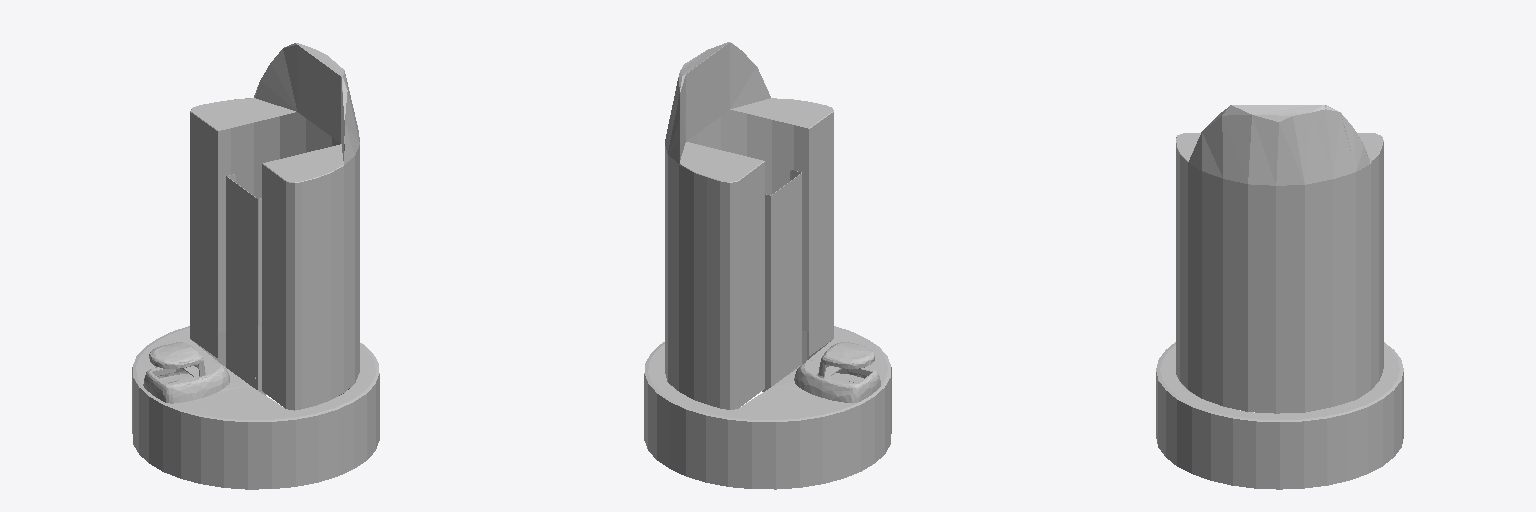
Rendered from combinedBase.obj.
3 views of the same model, side by side, from view 1: azimuth 30°, elevation 25°; view 2: azimuth 150°, elevation 25°; view 3: azimuth 270°, elevation 25° (orthographic).
Parts seen in each view (by area): view 1: body_light.001, base_light.001, torso_base.001; view 2: body_light.001, base_light.001, torso_base.001; view 3: body_light.001, base_light.001.
Boxes of the visible parts, x1,y1,x2,y2 form: body_light.001: [190, 43, 359, 410]; base_light.001: [132, 326, 379, 489]; torso_base.001: [226, 174, 266, 395]; body_light.001: [665, 42, 833, 409]; base_light.001: [644, 326, 891, 489]; torso_base.001: [762, 170, 801, 391]; body_light.001: [1176, 105, 1383, 413]; base_light.001: [1156, 342, 1403, 489].
Size of the model in its own units: 0.43 by 0.696 by 0.431.